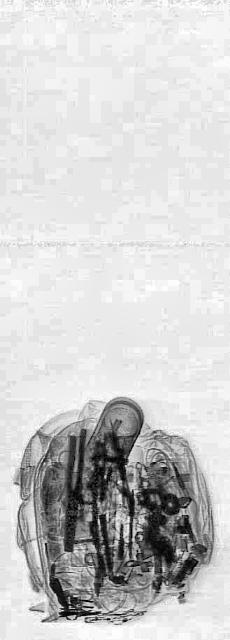Pliers: (60, 420, 86, 558)
